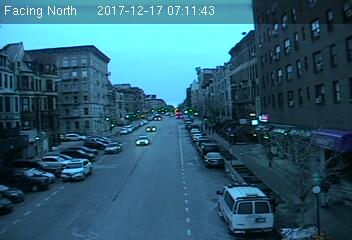car: (60, 157, 94, 181), (203, 151, 223, 165), (134, 135, 151, 146)
police: (213, 180, 275, 234)
